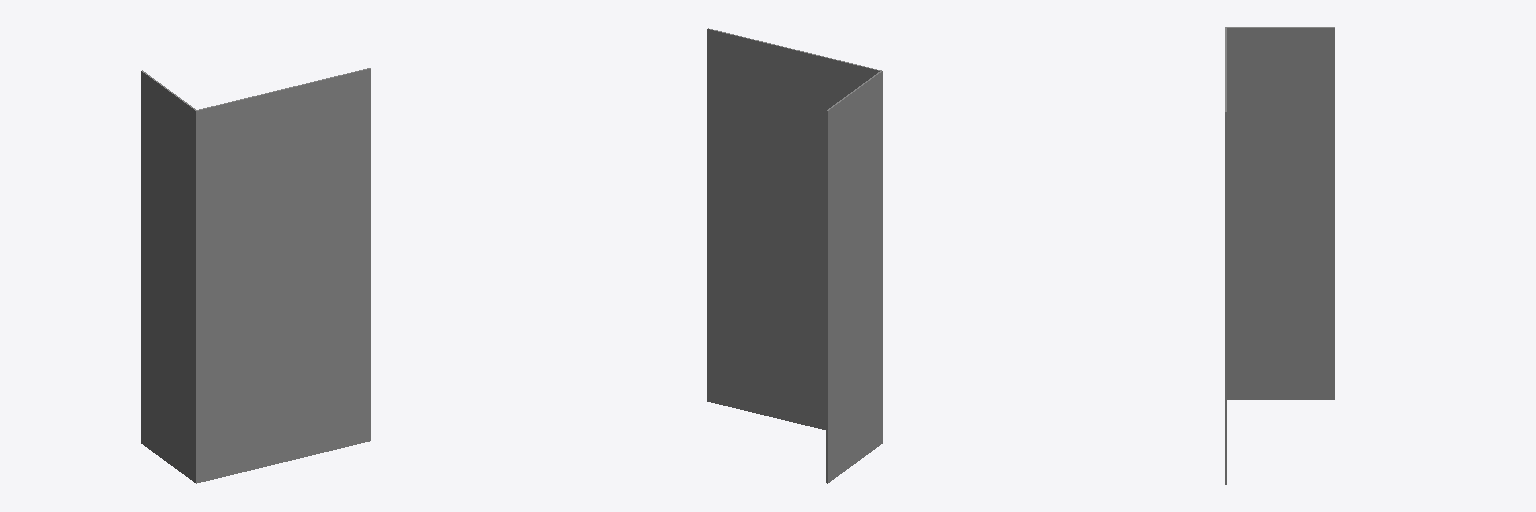
File: legion.obj
3 views of the same model, side by side, from view 1: azimuth 30°, elevation 25°; view 2: azimuth 150°, elevation 25°; view 3: azimuth 270°, elevation 25° (orthographic).
Bounding box in the file's own units: 5.66 × 11.54 × 3.09.